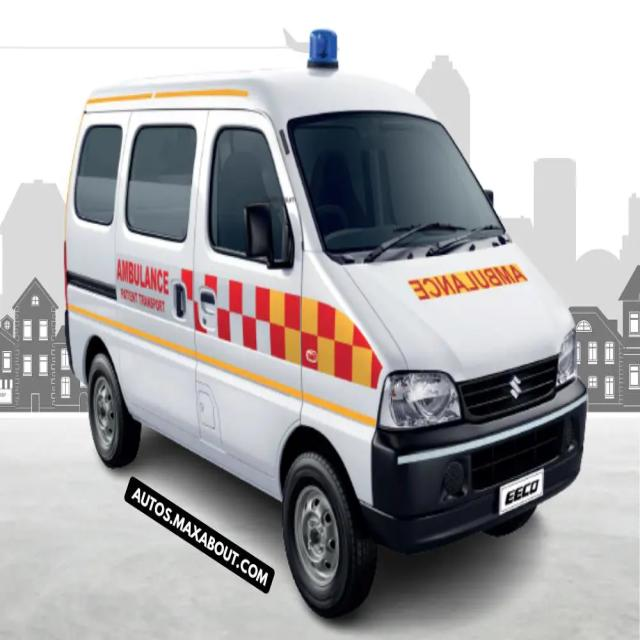emergency lights: (294, 30, 354, 75)
